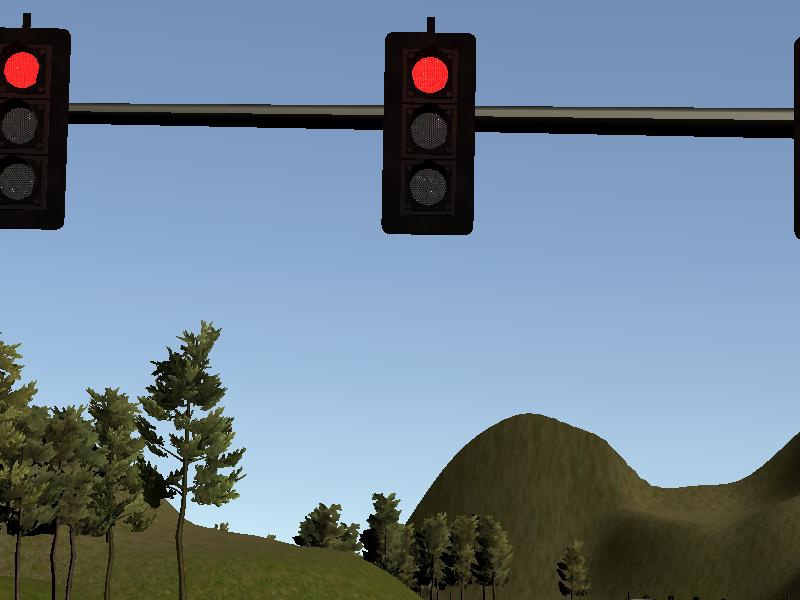red_light: (383, 35, 475, 235), (1, 29, 69, 229)
